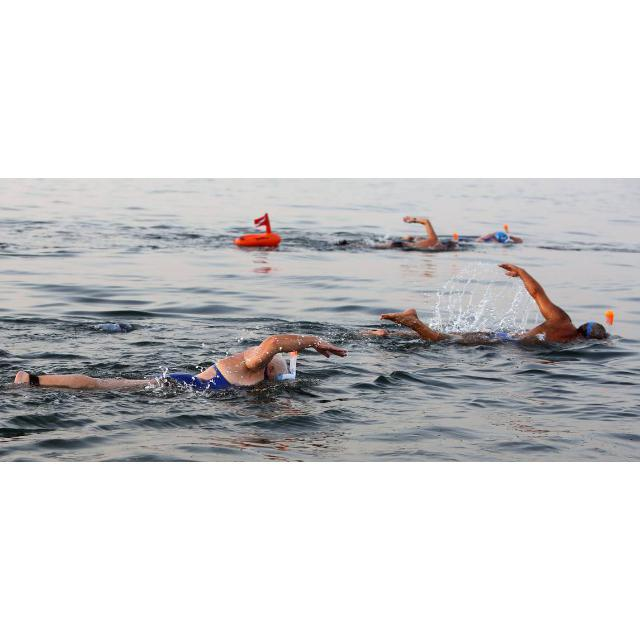human: (10, 334, 348, 398), (372, 261, 613, 340), (387, 216, 461, 248), (480, 226, 524, 245)
